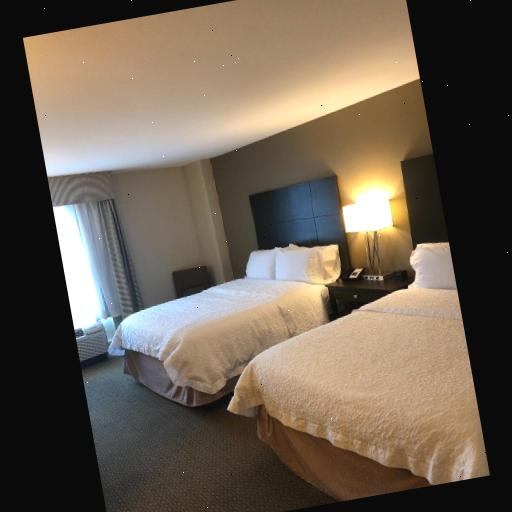clean_bed: (250, 156, 491, 501), (118, 175, 350, 406)
clean_floor: (77, 354, 326, 512)
lamp: (338, 193, 407, 288)
organised_pillow: (245, 244, 339, 285)
